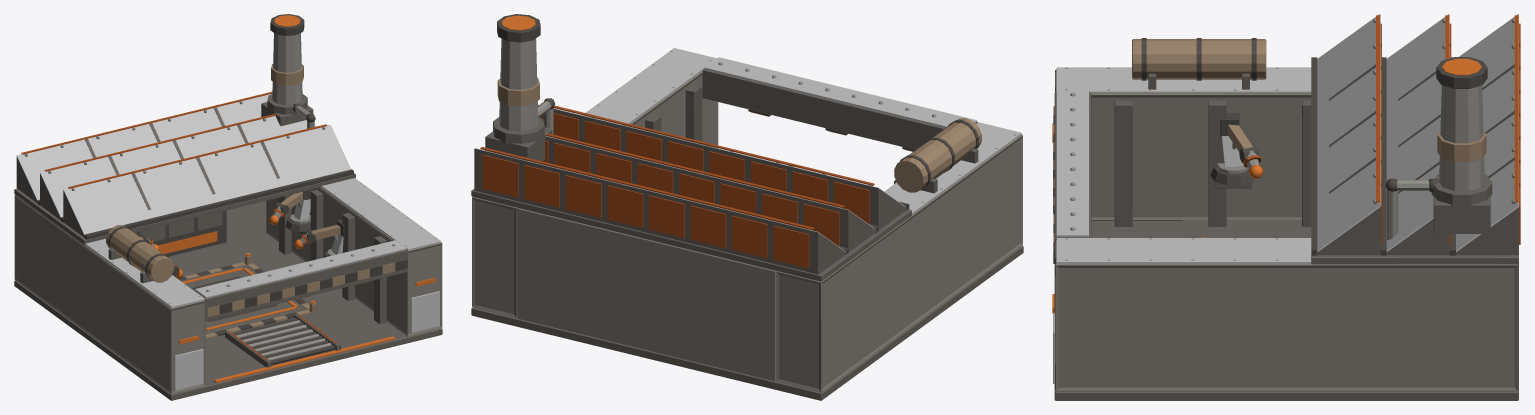
The model's file is crucible_vehicle_plant.glb.
3 renders of one model, left to right at view 1: azimuth 30°, elevation 25°; view 2: azimuth 150°, elevation 25°; view 3: azimuth 270°, elevation 25°, orthographic. The views are drawn at different scales.
Parts seen in each view (by area): view 1: Body; view 2: Body; view 3: Body.
Part boxes in pixels (x1,y1,x2,y2): Body: [14, 14, 442, 400]; Body: [471, 14, 1023, 400]; Body: [1052, 14, 1520, 400].
Bounding box in the file's own units: 22.8 × 17.43 × 22.97.
